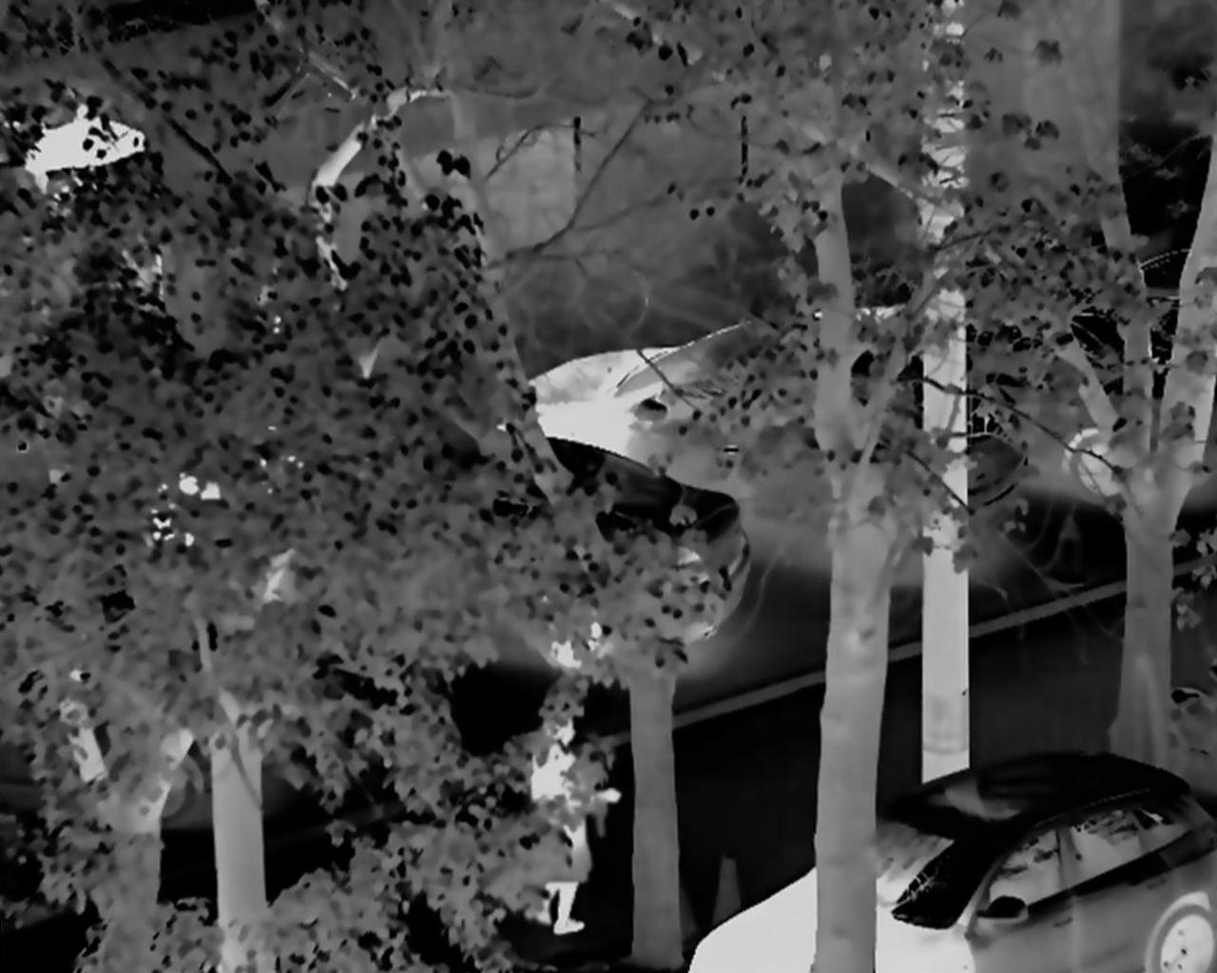person: (511, 710, 620, 936)
